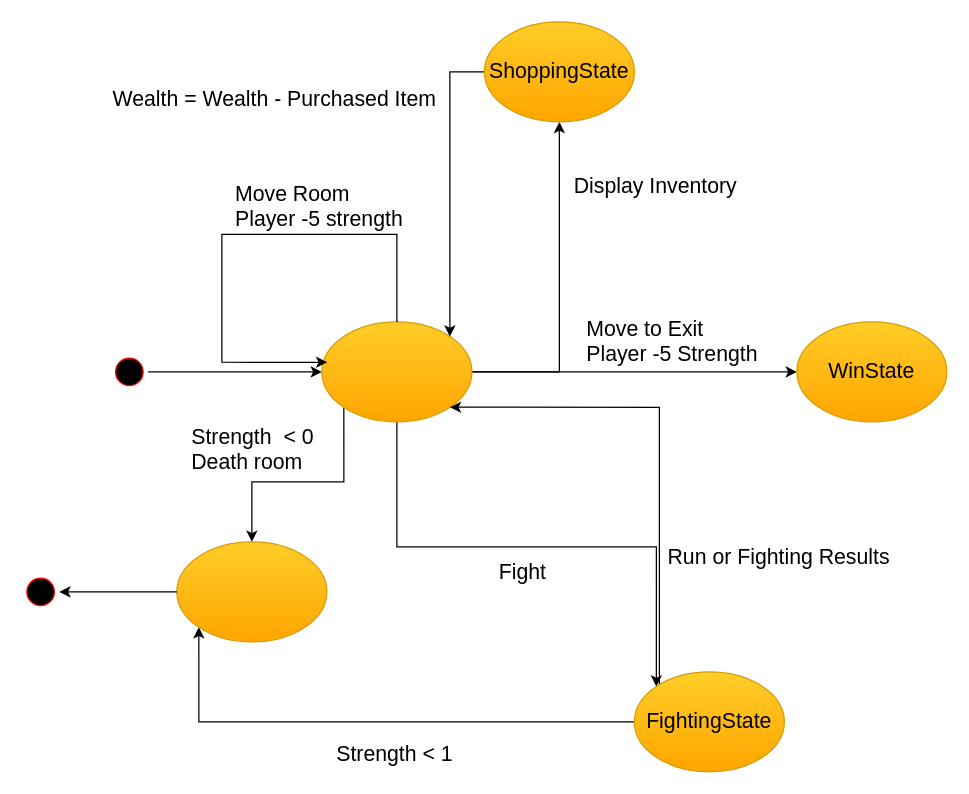
This 969x794 diagram has some shape labels left out. Here are the shapes that lost their labels. From the top down, the centre of each, then its label:
At (x=396, y=371): "ExploringState".
At (x=251, y=591): "DeadState".
